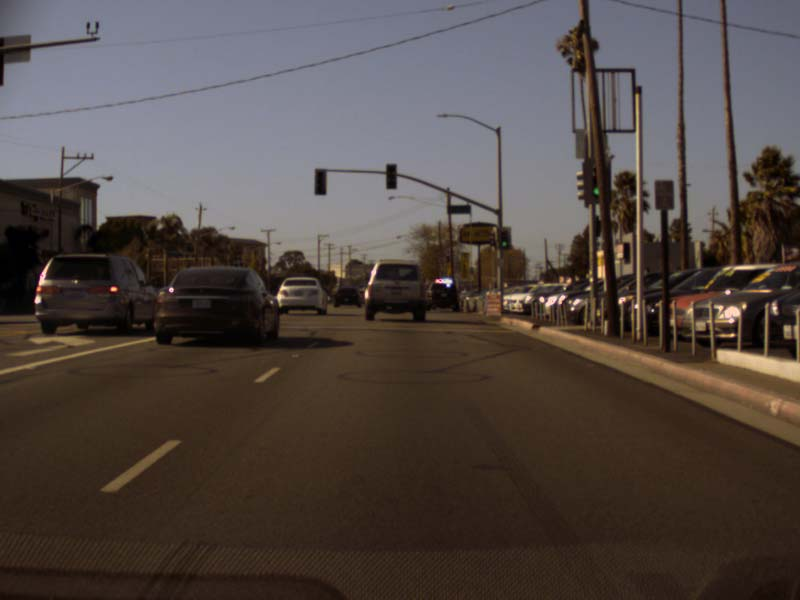Green: (499, 230, 511, 250), (592, 174, 599, 199)
